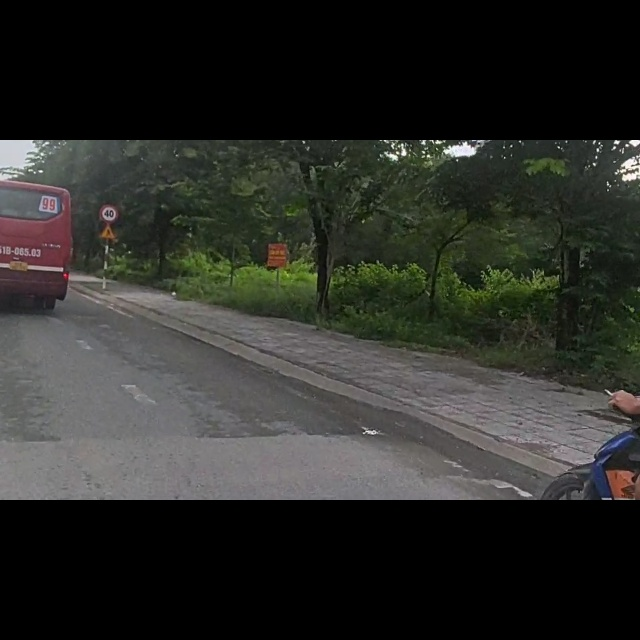bien_nguy_hiem: (101, 143, 117, 178), (101, 114, 117, 146)
